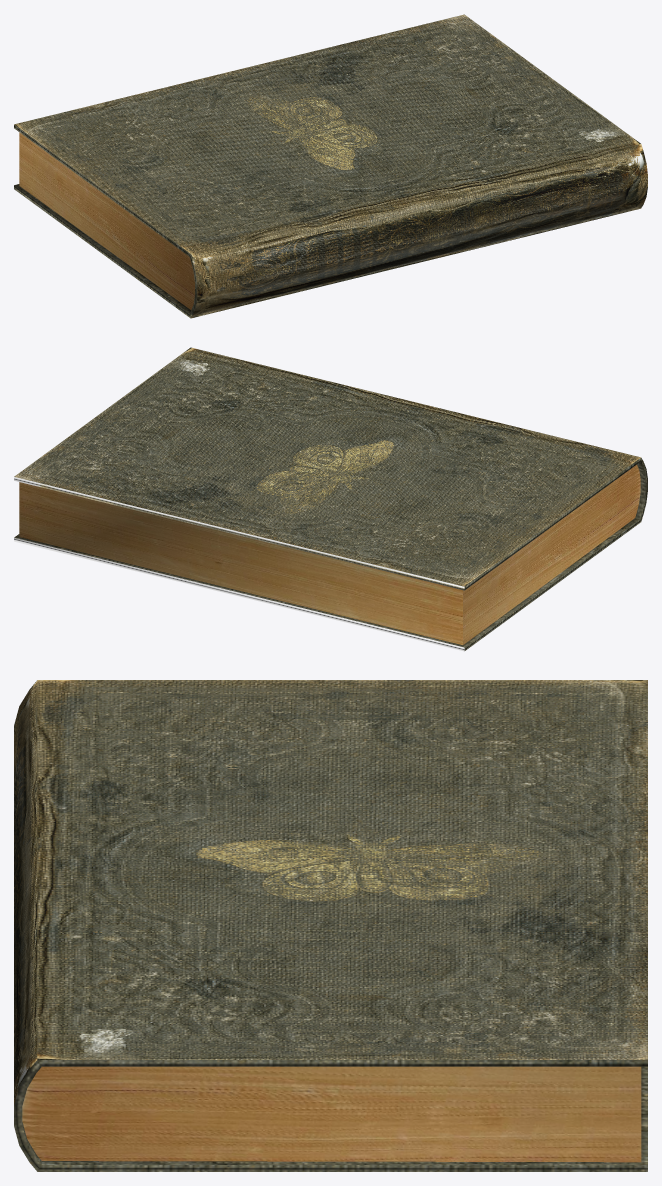
Rendered from Book_8.obj.
3 renders of one model, top to bottom at view 1: azimuth 30°, elevation 25°; view 2: azimuth 150°, elevation 25°; view 3: azimuth 270°, elevation 25°, orthographic. The views are drawn at different scales.
Parts seen in each view (by area): view 1: Book.004_Cube.009; view 2: Book.004_Cube.009; view 3: Book.004_Cube.009.
Part boxes in pixels (x1=…): Book.004_Cube.009: x1=14, y1=14, x2=647, y2=318; Book.004_Cube.009: x1=14, y1=347, x2=647, y2=651; Book.004_Cube.009: x1=14, y1=680, x2=647, y2=1171.
Bounding box in the file's own units: 2.17 × 0.2989 × 1.53.
